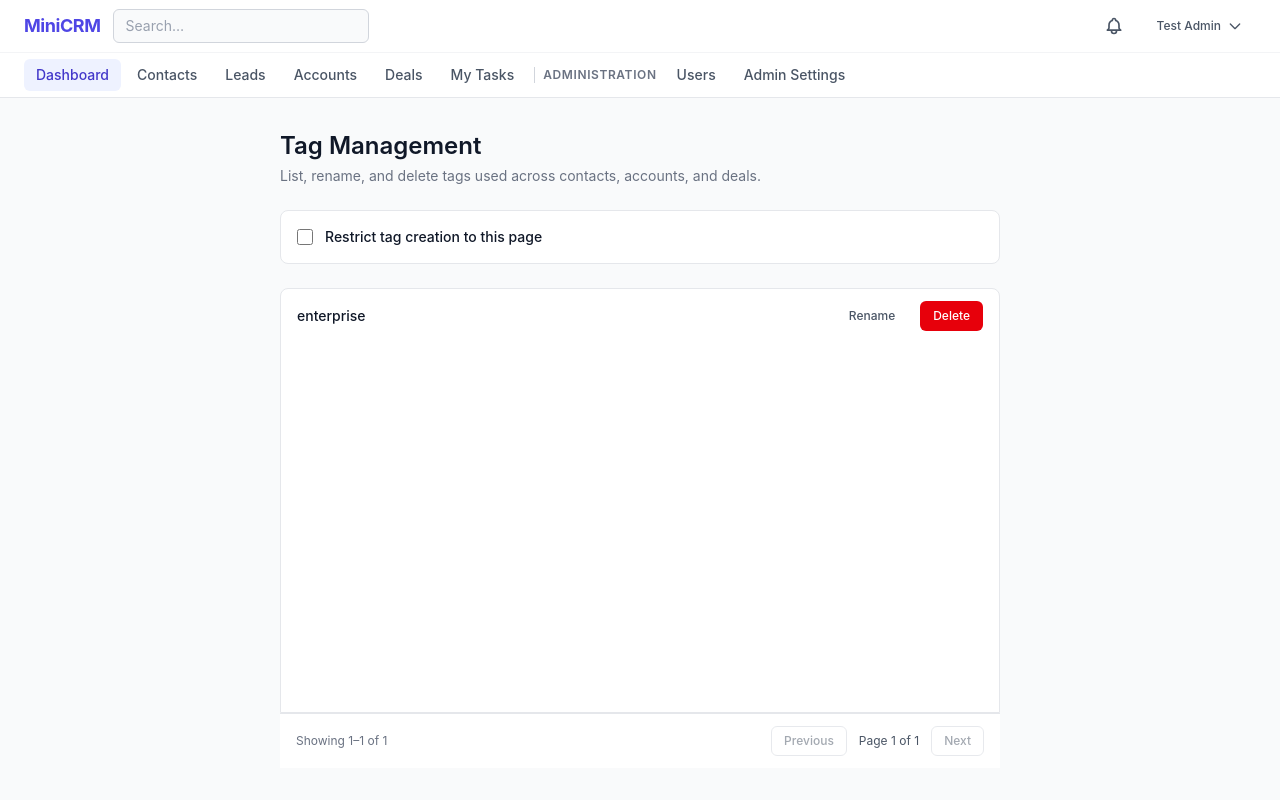
Scenario: AdminTagsPage › shows delete error alert when delete API fails
Click the button "Delete" at (952, 316), box [920,301,983,331]
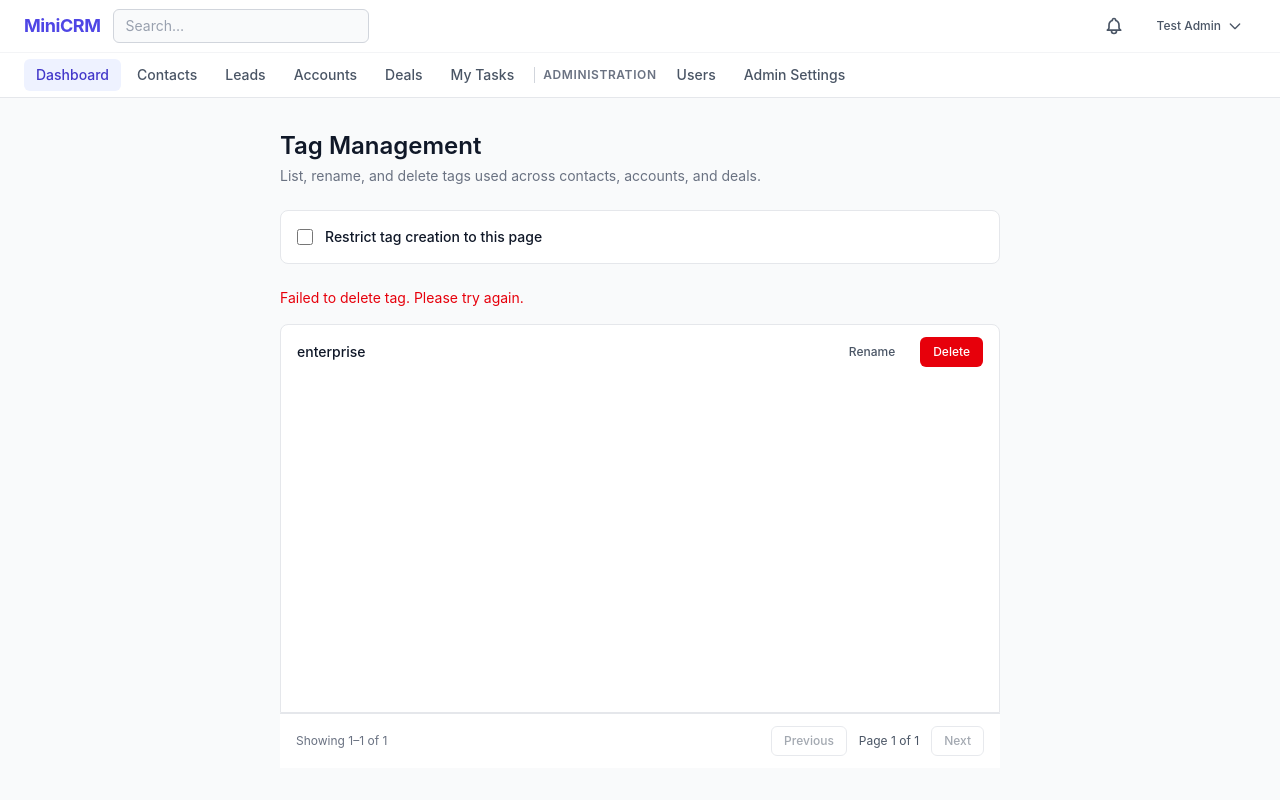
Now the message "Failed to delete tag. Please try again." is shown, box [280,289,524,306]
